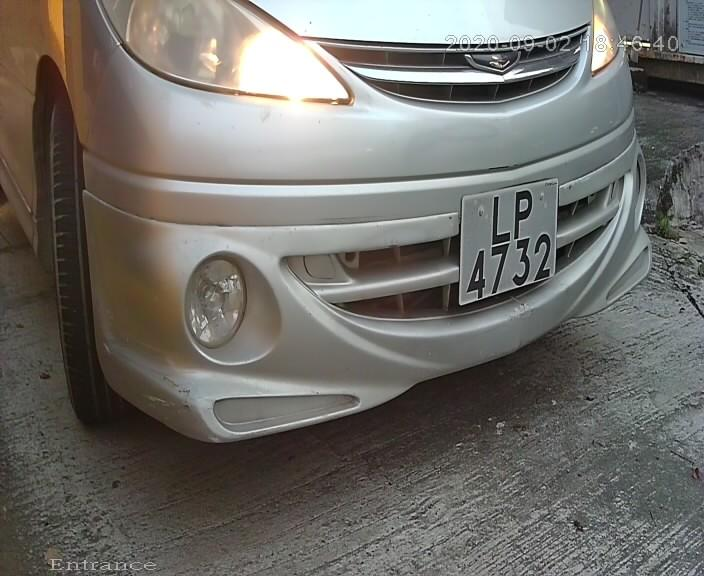License Plate: (453, 165, 582, 314)
